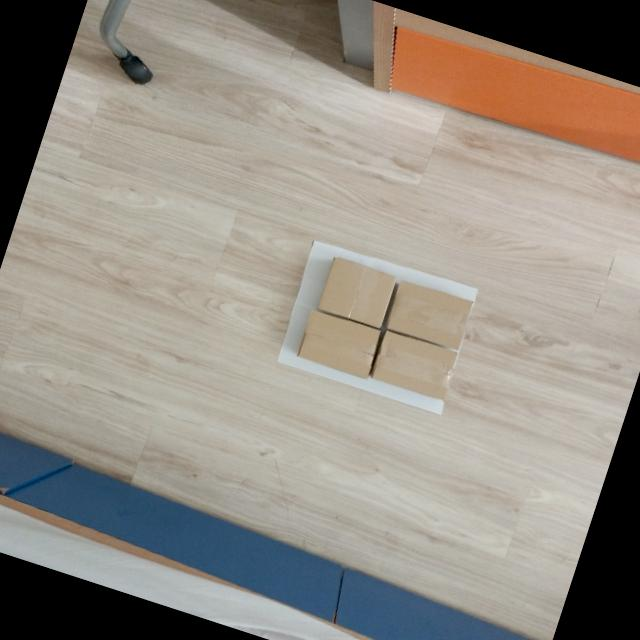box: (384, 277, 476, 352), (294, 308, 382, 383), (316, 254, 399, 330), (371, 331, 461, 401)
